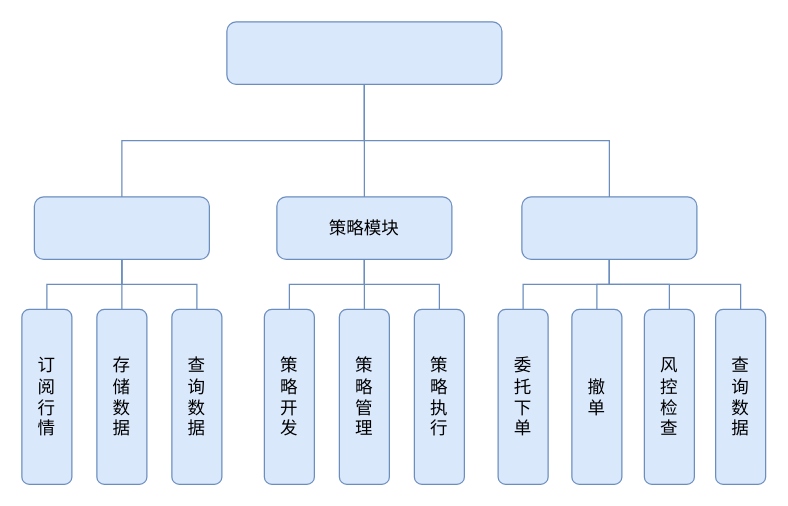
The diagram is 788 pixels wide and 506 high, and some of its shapes have lost their labels. The centre of each missing label's shape, as x and y in pixels:
"交易模块" goes at (609,227).
"行情模块" goes at (121,227).
"量化策略交易平台" goes at (364,52).
